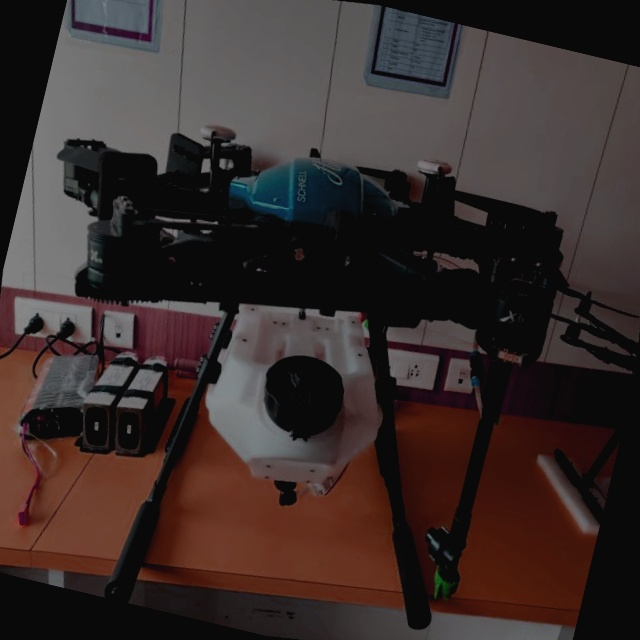agriculturedrone: (0, 42, 640, 640)
